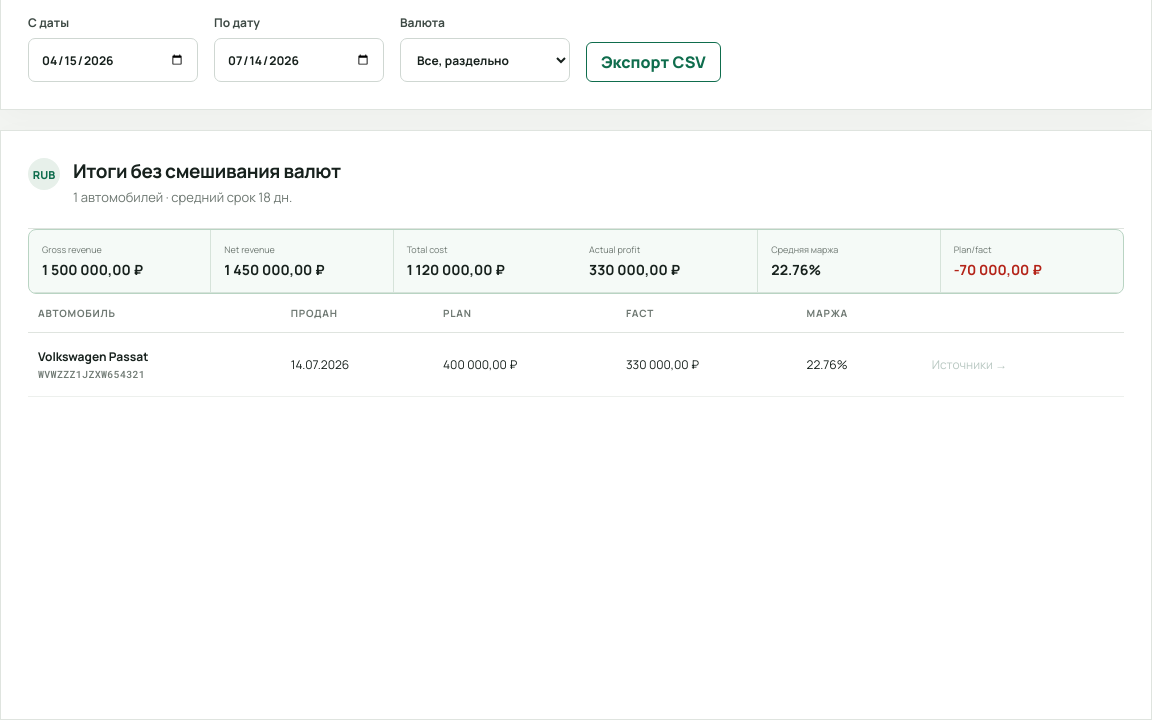
FinanceWorkspace › drills into immutable source totals and revisions
(page scrolled)
What coordinates should you click on to do the following:
click the button "Источники →"
I would click on:
 (970, 364)
Its box is [926,355,1013,374].
(page scrolled)
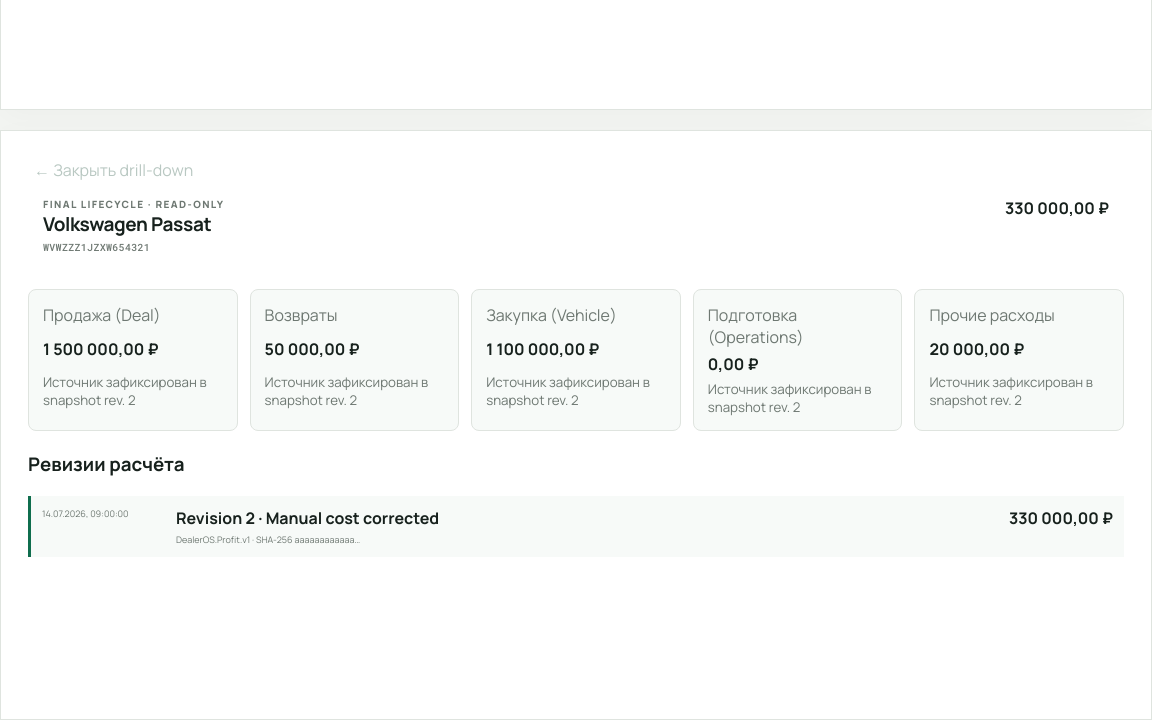
Now the text "Продажа (Deal)" is shown, box [43,304,161,326]
Now the text "Подготовка (Operations)" is shown, box [708,304,804,348]
Now the text "Revision 2 · Manual cost corrected" is shown, box [176,507,439,529]
